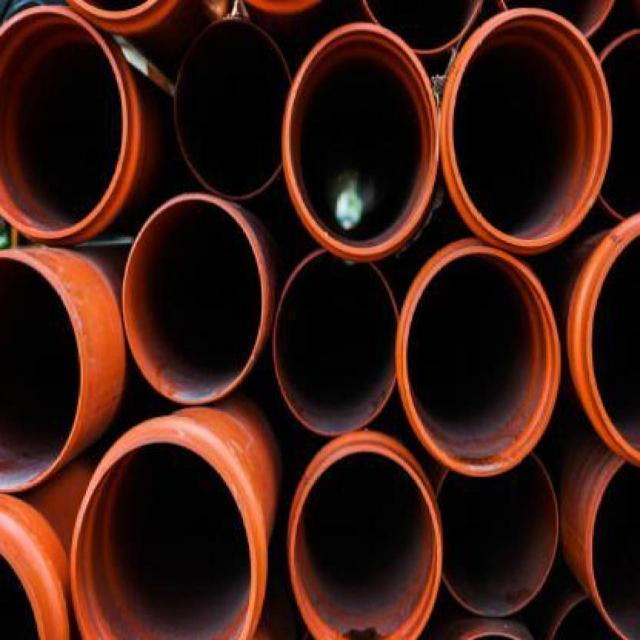pipe: (449, 9, 612, 248), (69, 436, 255, 639), (281, 24, 440, 258), (397, 247, 560, 475), (0, 5, 129, 242), (121, 196, 264, 404), (288, 447, 441, 640), (272, 250, 399, 437), (172, 18, 291, 198), (434, 452, 559, 616), (0, 255, 82, 492), (587, 30, 640, 226), (587, 457, 640, 640), (355, 0, 489, 49)
